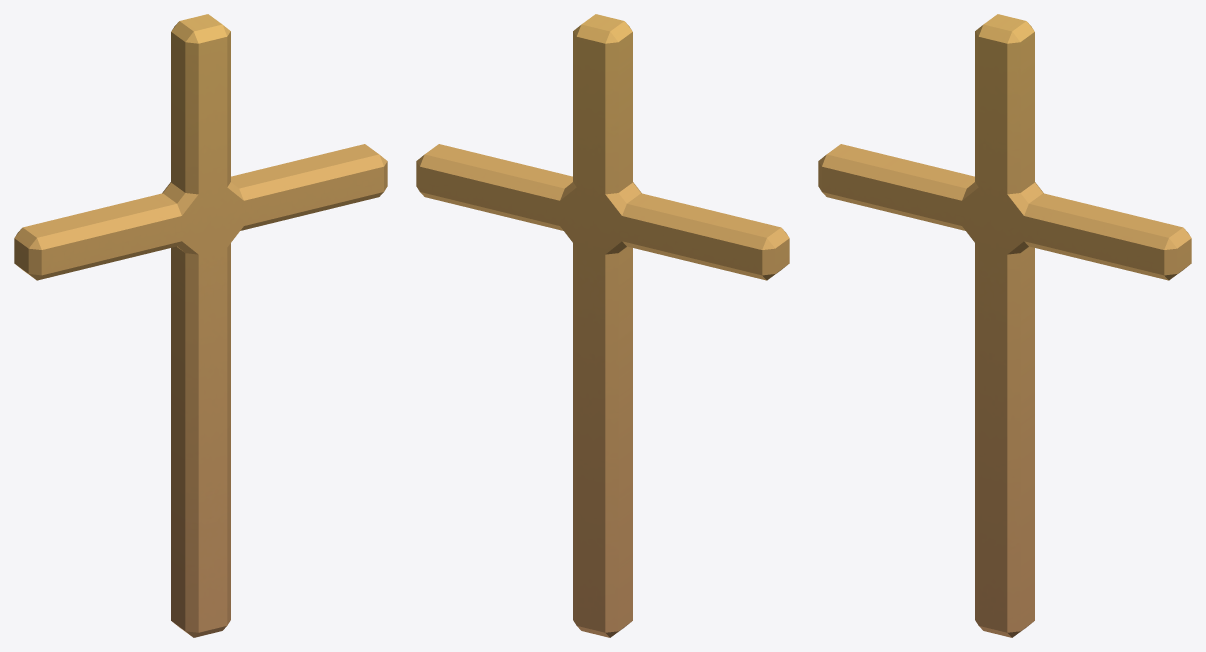
File: Cross1_Gold.fbx
3 renders of one model, left to right at view 1: azimuth 30°, elevation 25°; view 2: azimuth 150°, elevation 25°; view 3: azimuth 330°, elevation 25°, orthographic.
Visible parts, largest first — view 1: Cross1_Gold; view 2: Cross1_Gold; view 3: Cross1_Gold.
Part boxes in pixels (left/top/right/bottom): Cross1_Gold: left=14, top=14, right=387, bottom=637; Cross1_Gold: left=416, top=14, right=789, bottom=637; Cross1_Gold: left=818, top=14, right=1191, bottom=637.
Size of the model in its own units: 0.7949 by 1.28 by 0.0918.
Materials: 1 (1 with a texture image).
